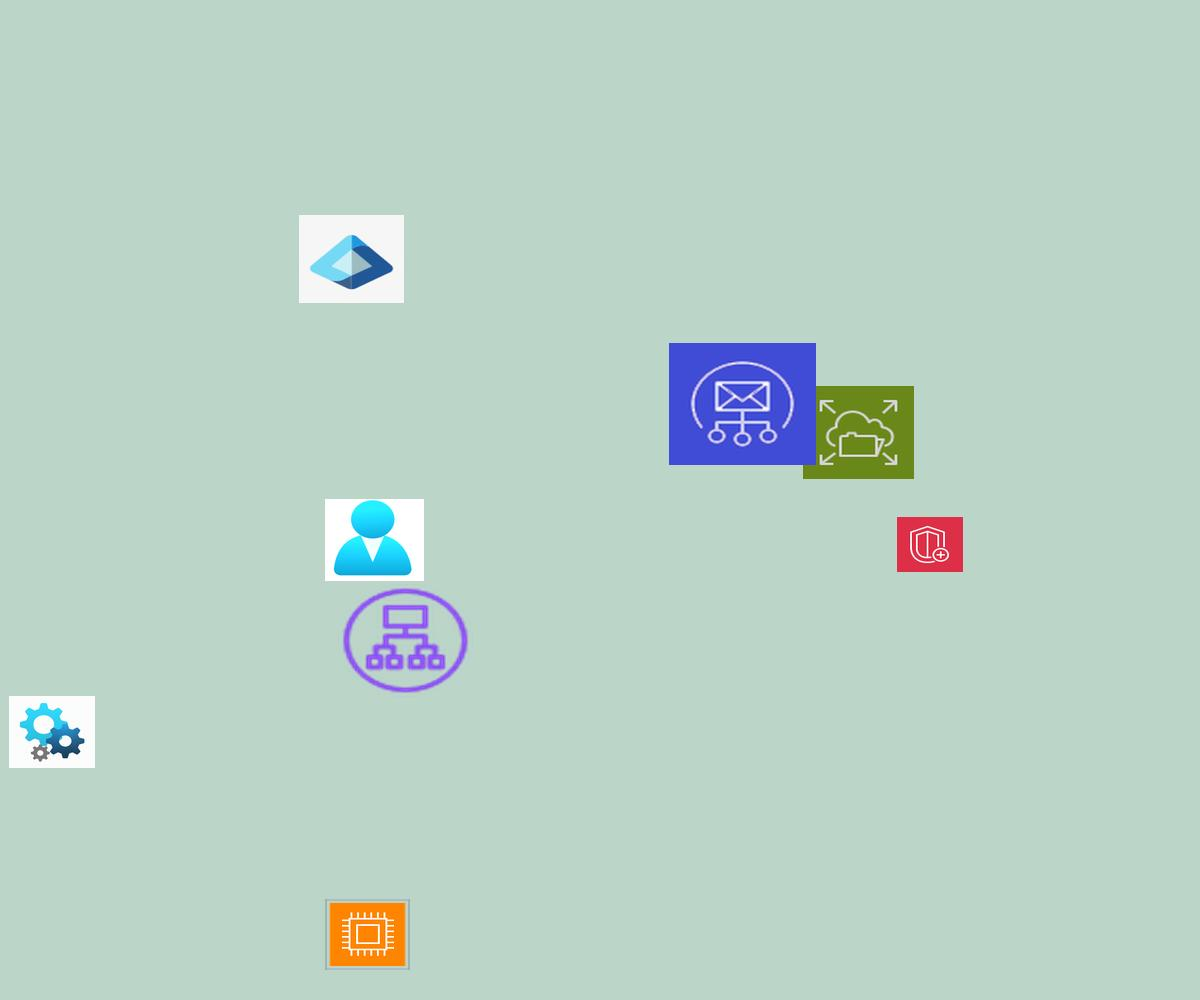AWS-Category_Compute: (325, 899, 410, 970)
AWS-EFS: (803, 386, 914, 479)
AWS-Res_Elastic-Load-Balancing_Application-Load-Balancer: (338, 584, 473, 697)
AWS-Shield: (897, 517, 963, 572)
AWS-Simple-Email-Service: (669, 343, 816, 465)
Azure_api: (9, 696, 95, 768)
Azure_microsoft_entra: (299, 215, 404, 303)
Azure_users: (325, 499, 424, 581)
